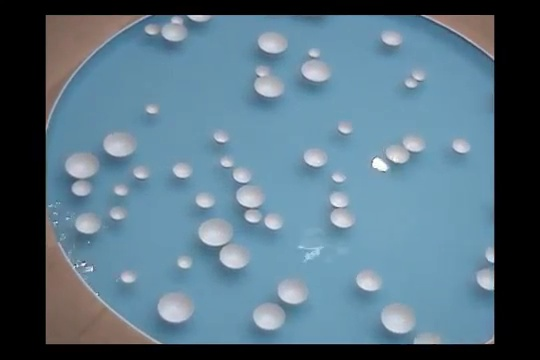bowl: (156, 291, 196, 323), (380, 302, 416, 334), (197, 217, 233, 246), (65, 151, 100, 180), (103, 131, 138, 159), (251, 302, 285, 330), (277, 278, 311, 305), (219, 243, 252, 269), (236, 183, 267, 208), (301, 60, 332, 84), (257, 31, 289, 54), (254, 76, 285, 99), (355, 269, 384, 292), (75, 212, 103, 234), (329, 208, 356, 230), (160, 22, 188, 43), (384, 143, 412, 164), (302, 147, 329, 167), (402, 133, 427, 153), (476, 267, 494, 293), (172, 161, 194, 180), (264, 211, 286, 229), (381, 30, 403, 47), (329, 191, 351, 208), (413, 331, 441, 344), (72, 180, 92, 198), (451, 137, 472, 154), (109, 205, 129, 222), (232, 167, 253, 183), (195, 192, 215, 208), (336, 121, 355, 136), (133, 165, 151, 180), (213, 130, 232, 144), (244, 209, 263, 223), (187, 14, 213, 24), (176, 254, 193, 269), (144, 22, 162, 36), (144, 102, 161, 116), (113, 183, 130, 197), (219, 154, 236, 168), (120, 270, 138, 283), (412, 68, 428, 82), (331, 172, 348, 184), (484, 246, 494, 265), (255, 65, 272, 76), (404, 77, 418, 90), (171, 15, 185, 26), (308, 47, 321, 58)
